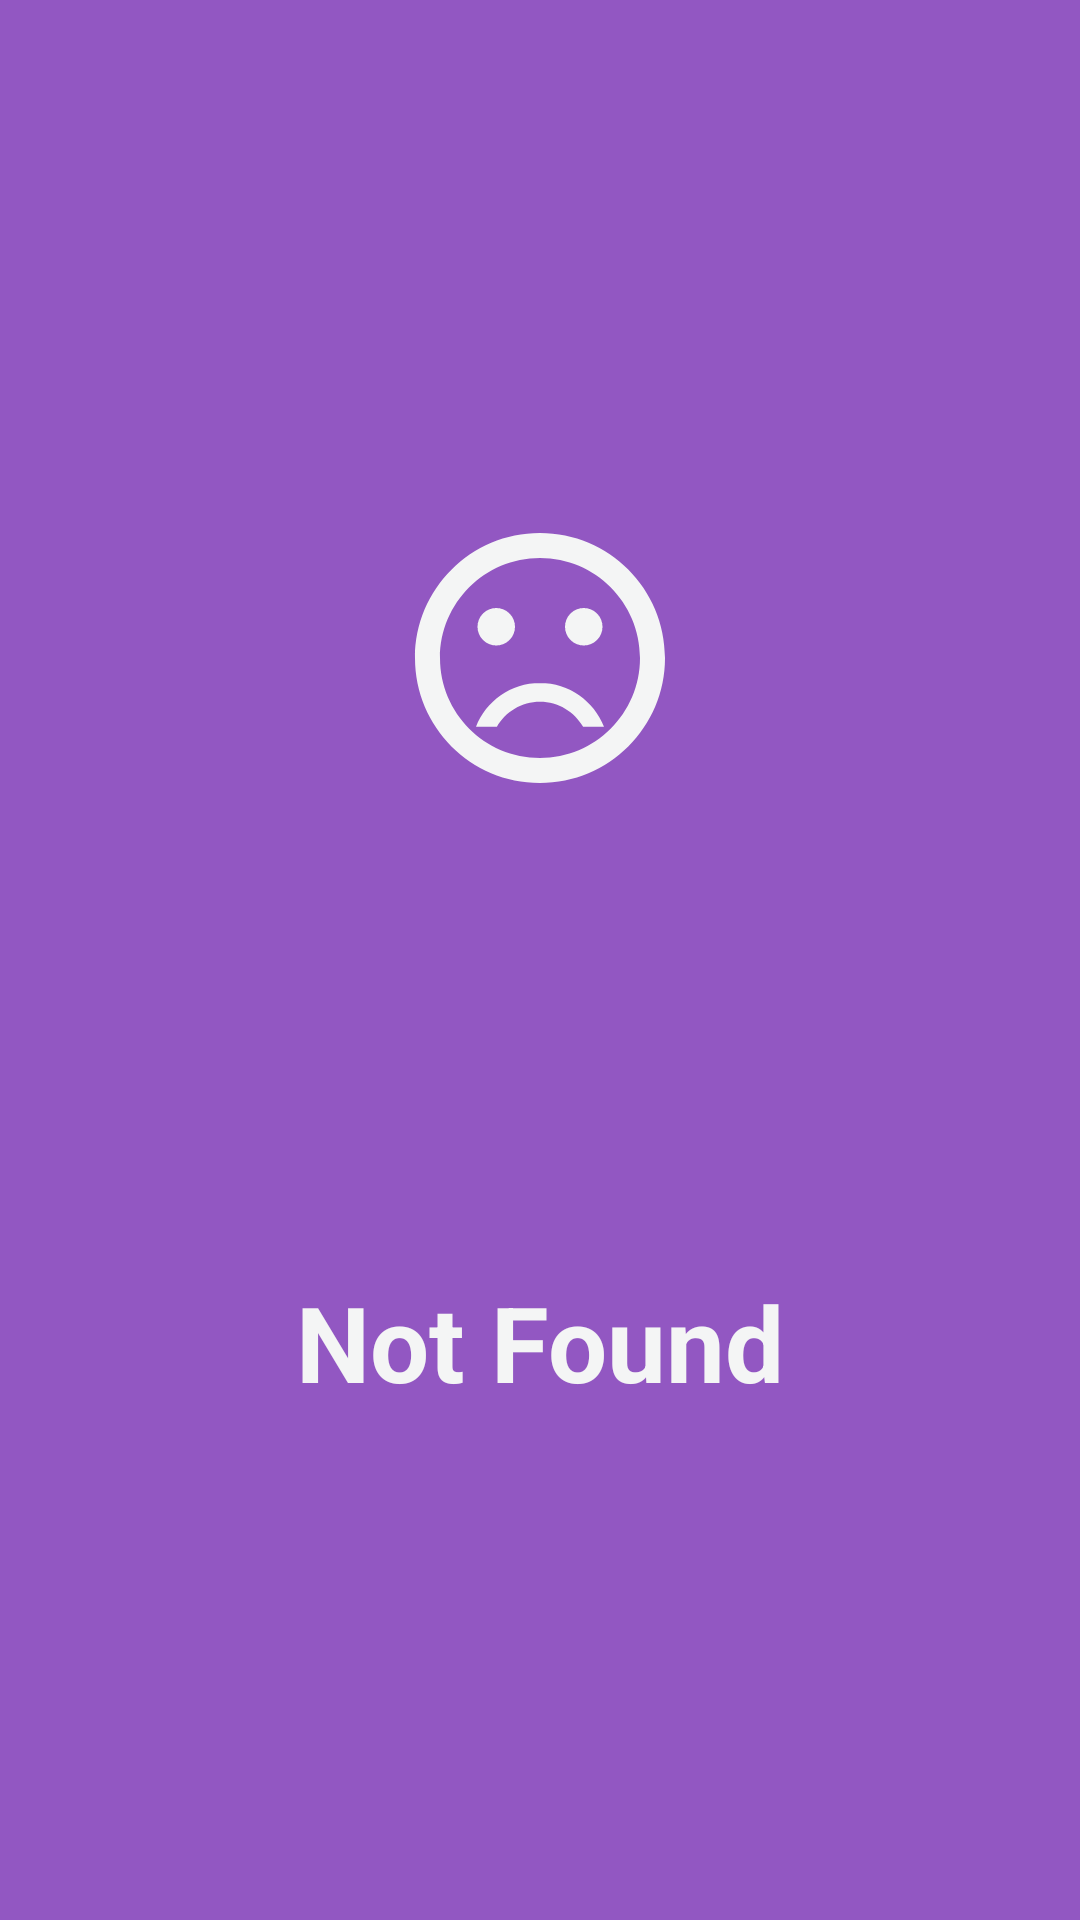

Point at icon controls on the screen. Image size 1080 × 1920, points as point (x, y).
sad: point (540, 658)
